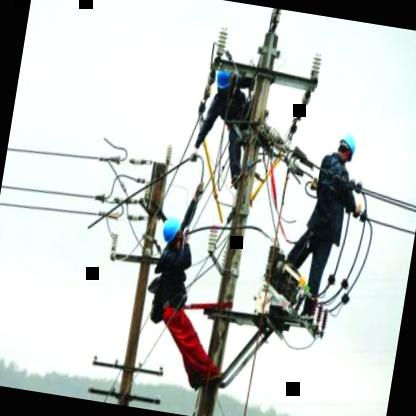helmet: (207, 58, 242, 100), (158, 212, 188, 252), (332, 131, 362, 168)
